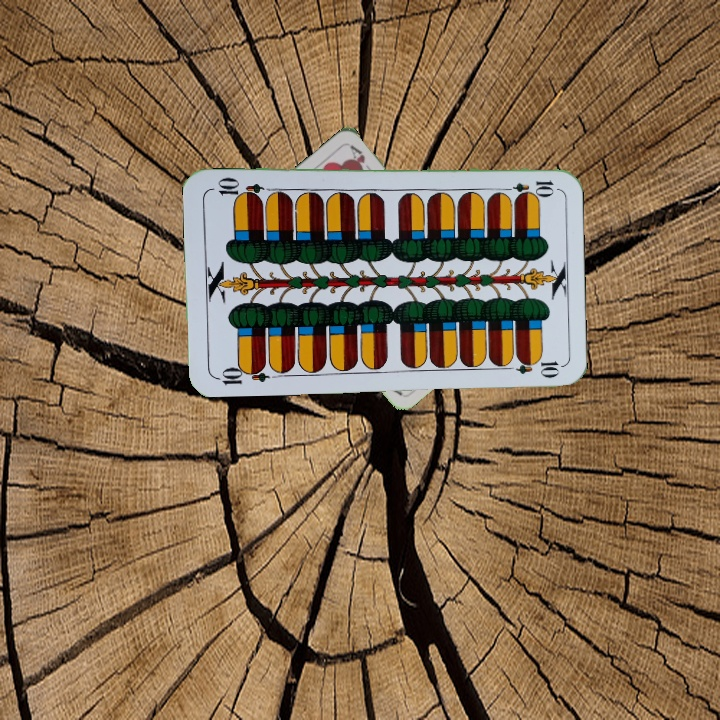E10: (212, 360, 271, 387), (497, 177, 557, 196)
